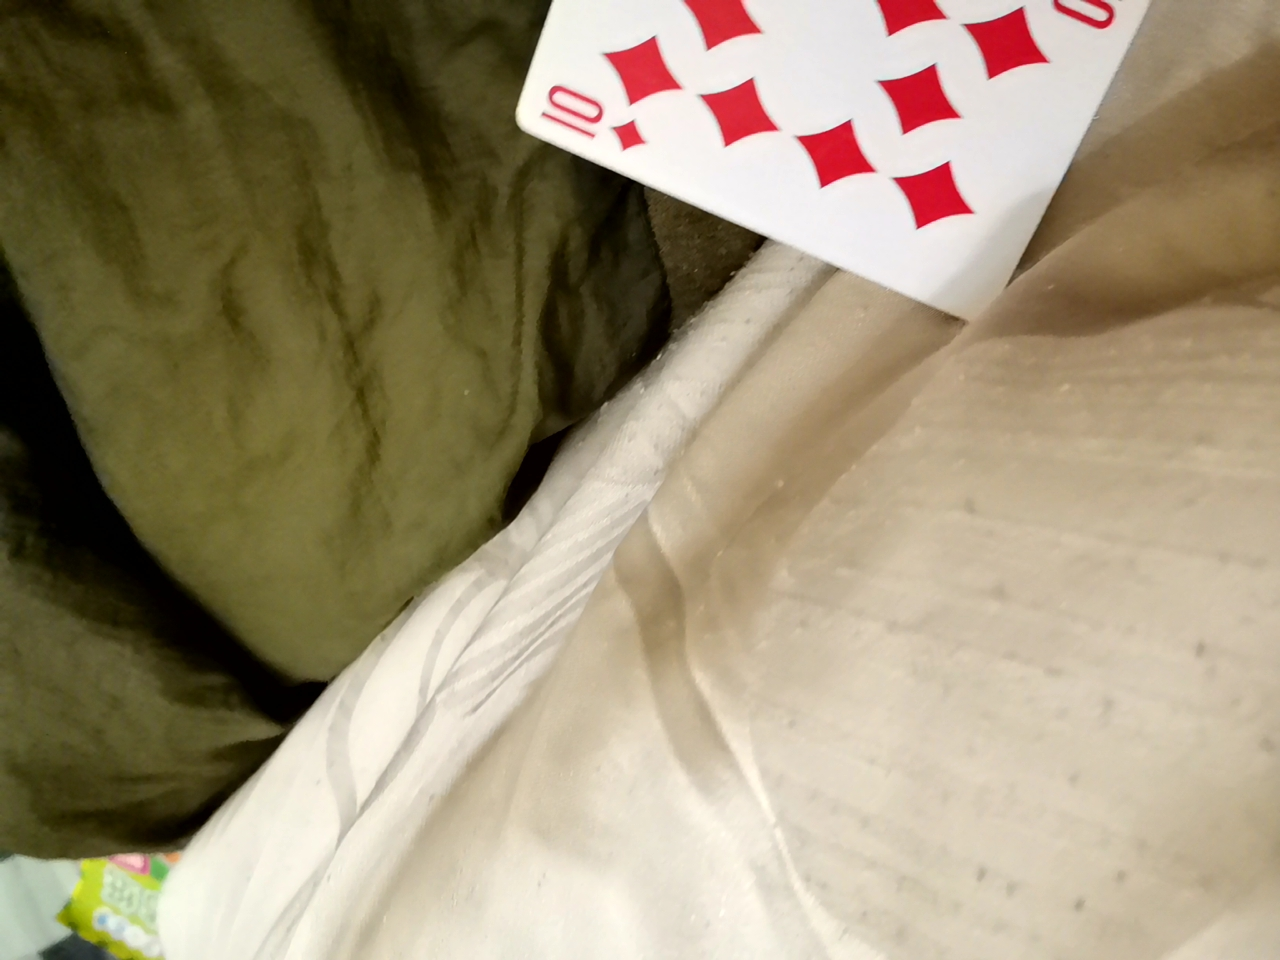fk 10: (491, 0, 1208, 301)
